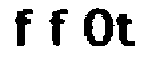0: (80, 5, 115, 49)
f: (13, 7, 36, 50), (48, 6, 71, 49)
t: (115, 9, 139, 49)
